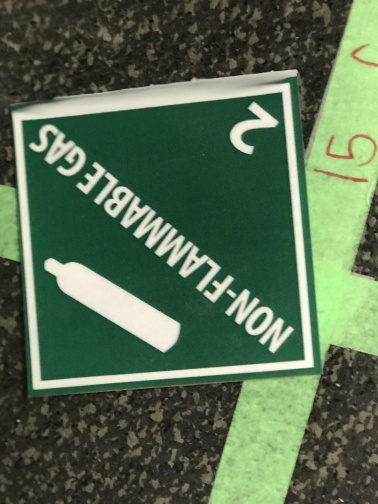NonFlammableGas: (10, 68, 322, 397)
